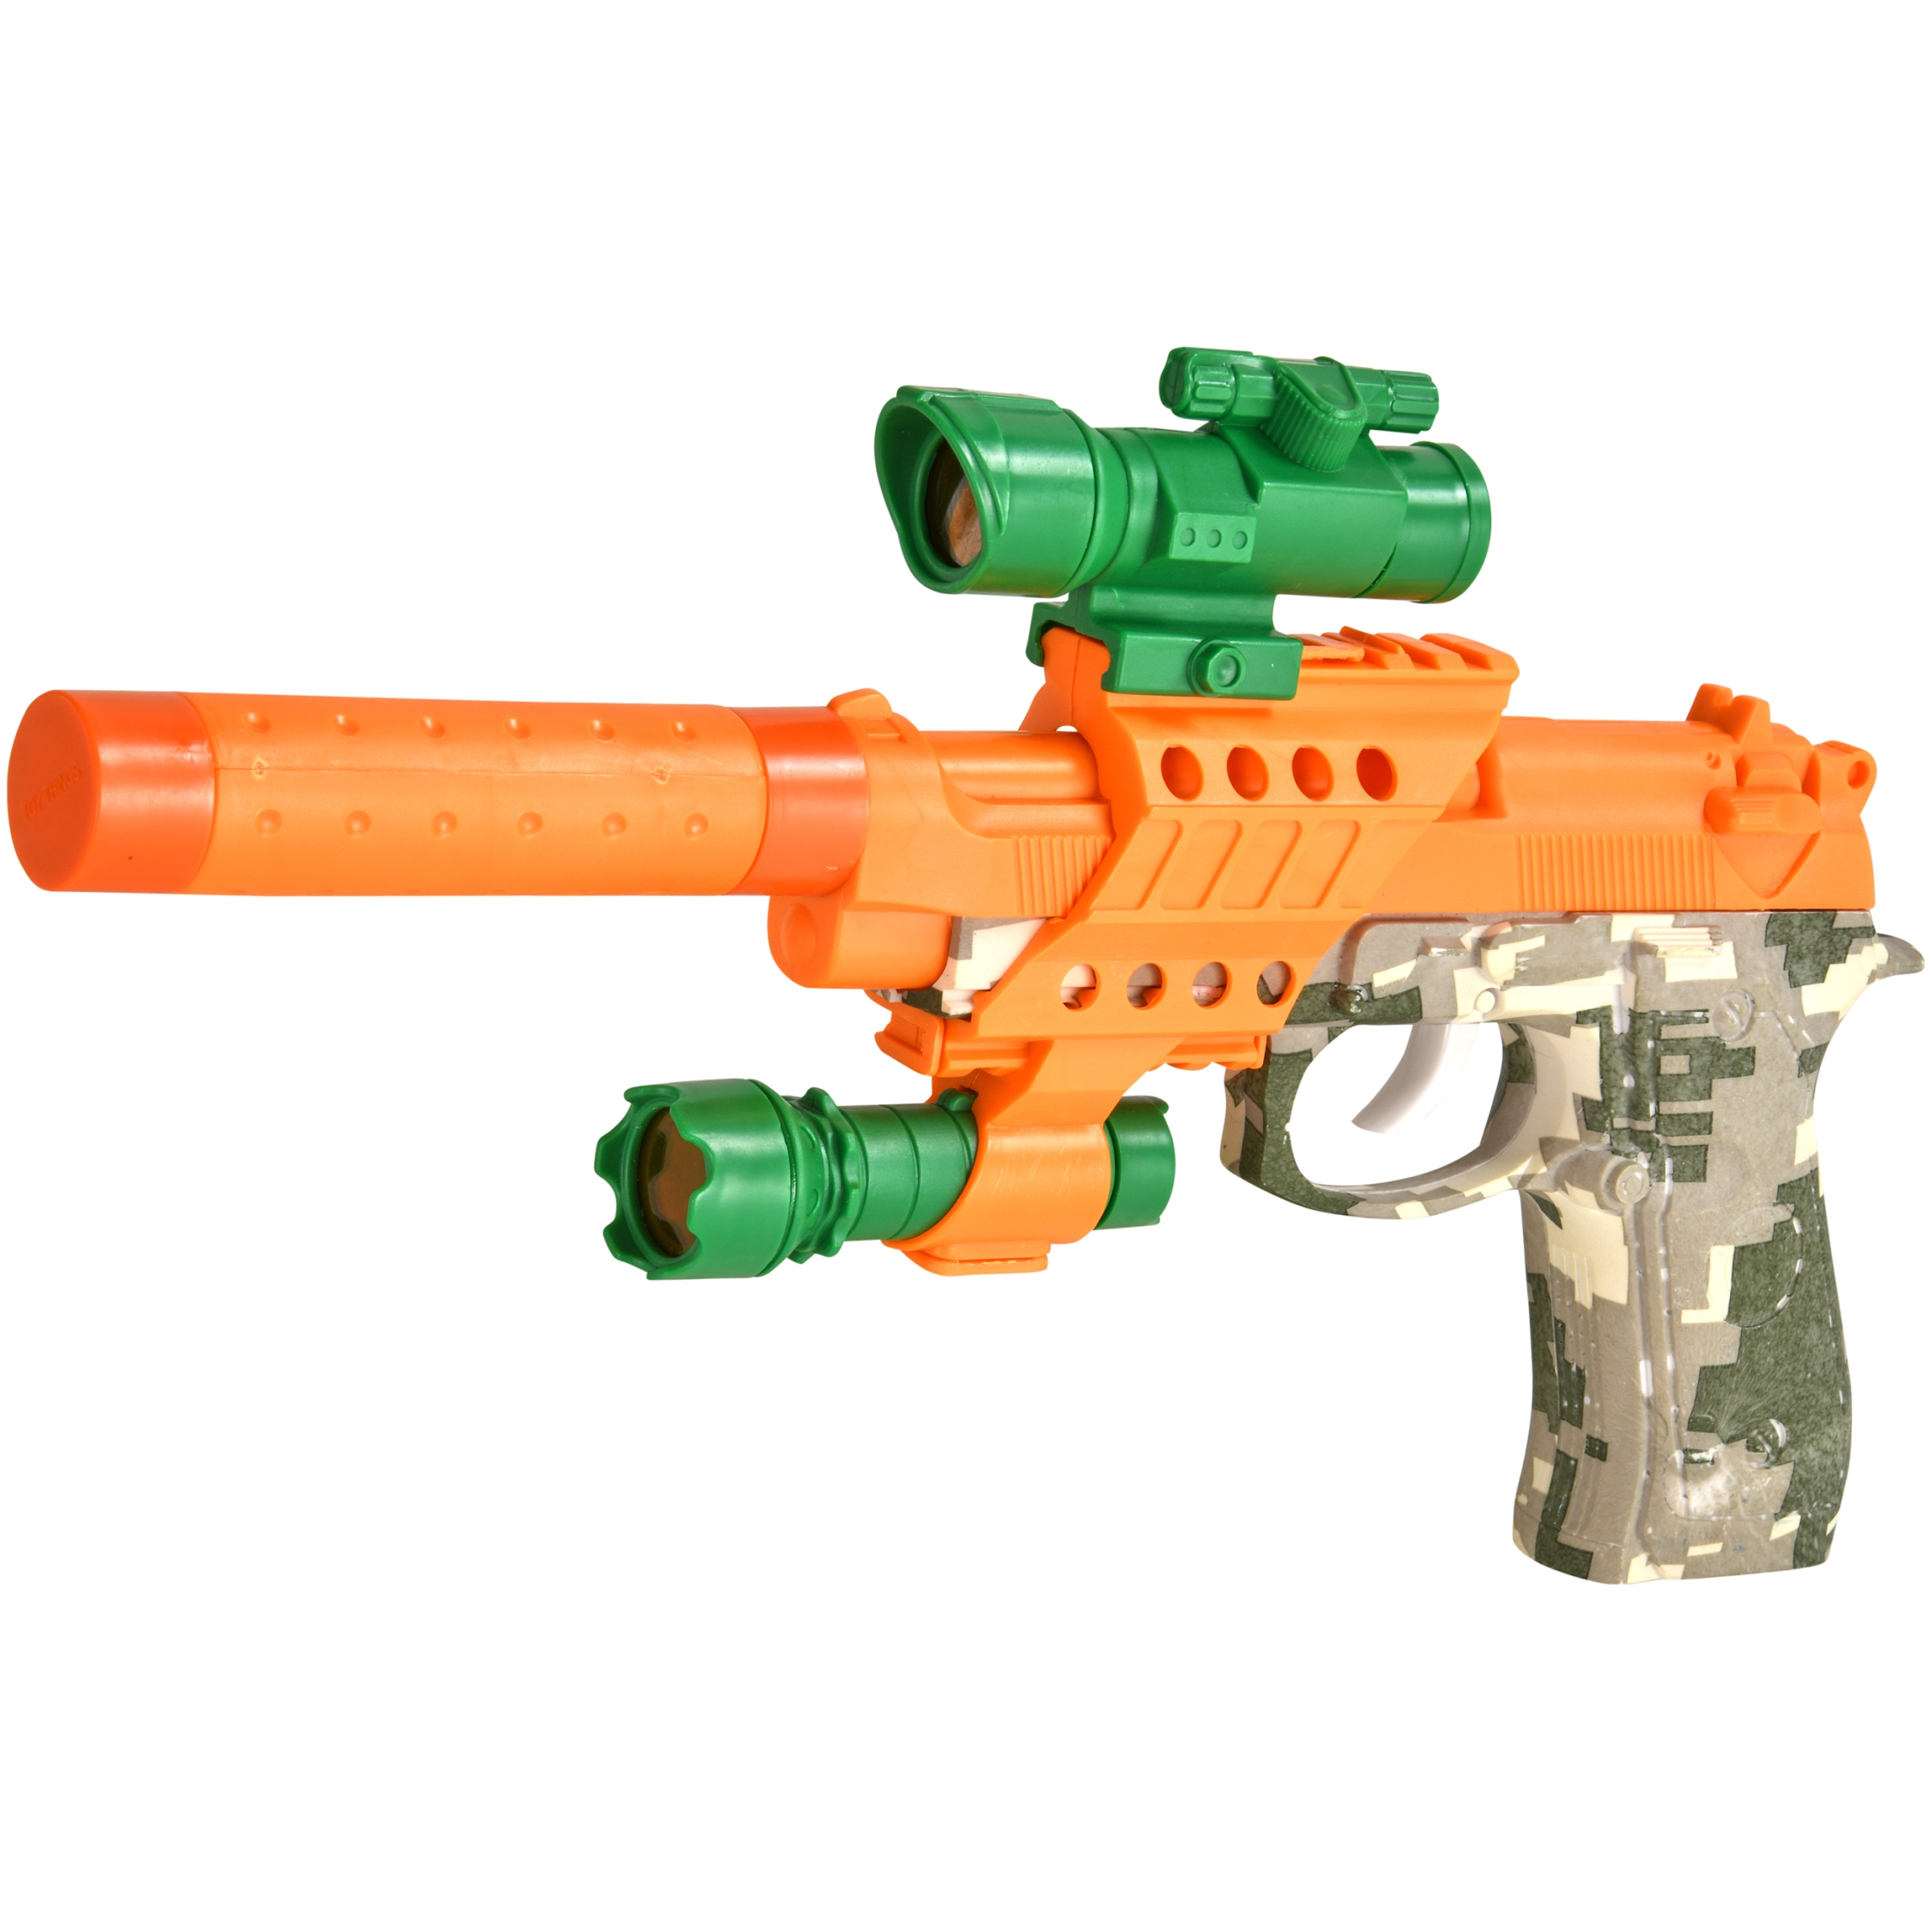Arma Falsa: (7, 329, 1930, 1589)
